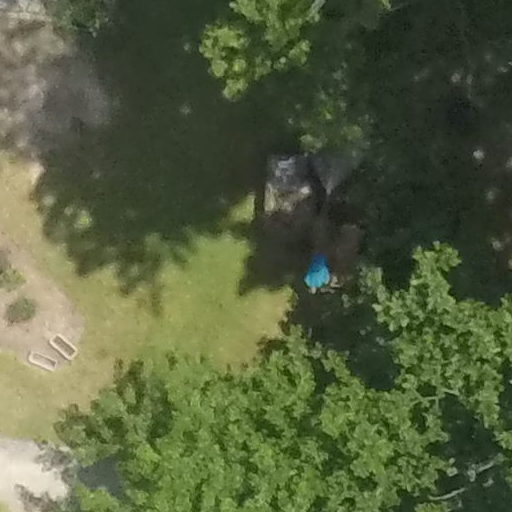container: (45, 333, 80, 362), (22, 350, 62, 374)
